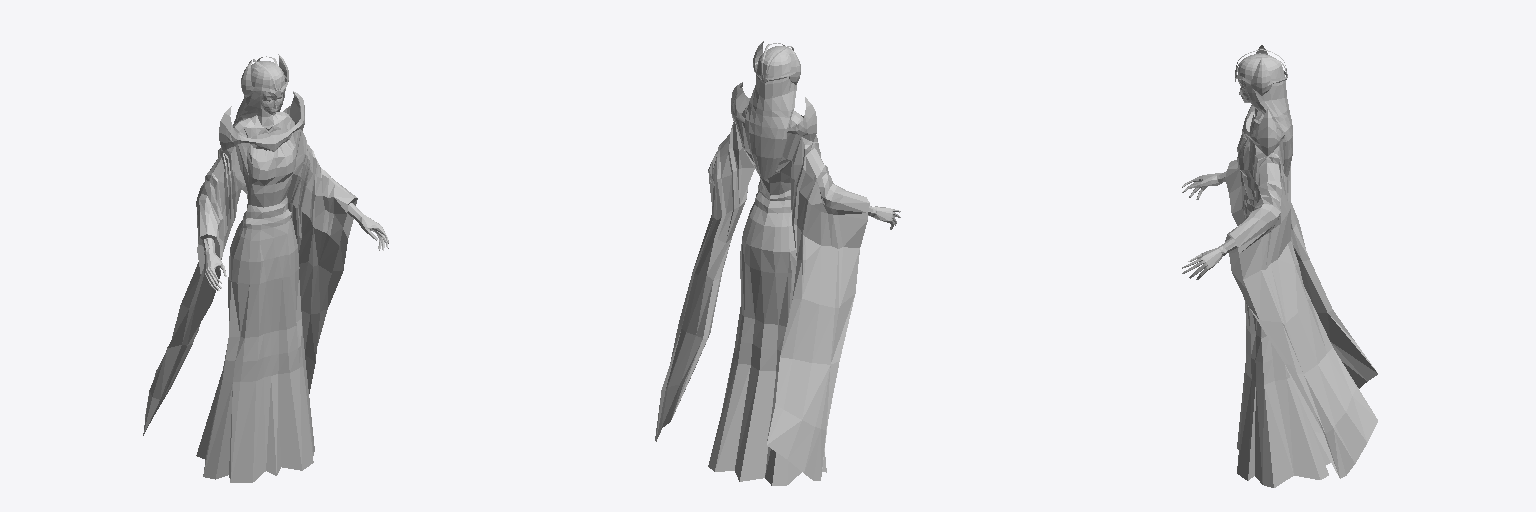
The model's file is Mystical Elf.obj.
The picture shows the model from 3 angles: view 1: azimuth 30°, elevation 25°; view 2: azimuth 150°, elevation 25°; view 3: azimuth 270°, elevation 25°; orthographic projection.
Parts seen in each view (by area): view 1: rdmobj07, rdmobj09, Regroup02, rdmobj10; view 2: rdmobj07, rdmobj10, Regroup02, rdmobj09; view 3: rdmobj07, rdmobj10, Regroup02, rdmobj09.
Part boxes in pixels (x1,y1,x2,y2): rdmobj07: (143, 127, 357, 482); rdmobj09: (202, 108, 388, 290); Regroup02: (219, 54, 304, 150); rdmobj10: (233, 61, 285, 125); rdmobj07: (655, 119, 869, 485); rdmobj10: (745, 46, 796, 179); Regroup02: (731, 41, 816, 141); rdmobj09: (742, 106, 900, 229); rdmobj07: (1225, 111, 1377, 487); rdmobj10: (1238, 53, 1292, 176); Regroup02: (1235, 45, 1287, 155); rdmobj09: (1182, 108, 1278, 279).
Size of the model in its own units: 0.8232 by 1.83 by 0.7985.